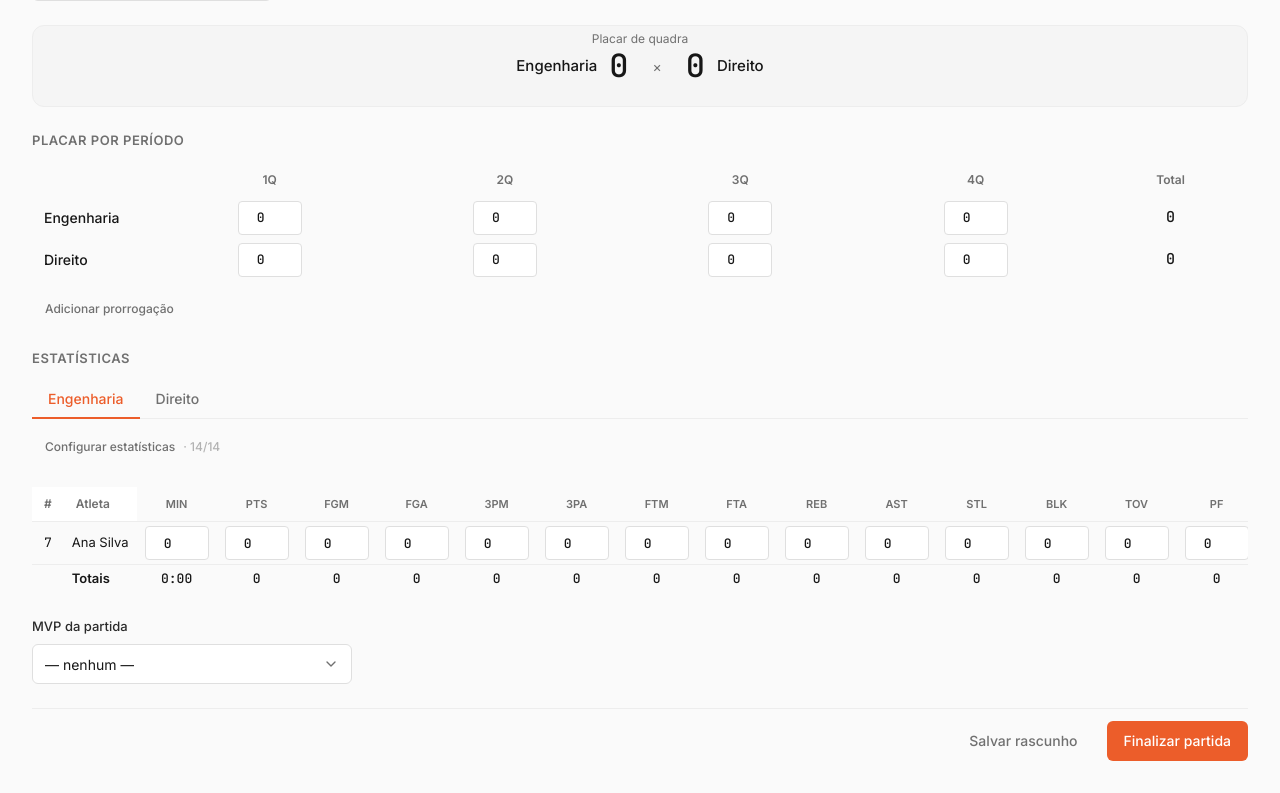
it: MatchSumulaPage — draft › sends the complete zero-default snapshot, stays on the page and shows success
(page scrolled)
Click the button "Salvar rascunho". click: {"x": 1023, "y": 741}
box: [952,721,1095,761]
(page scrolled)
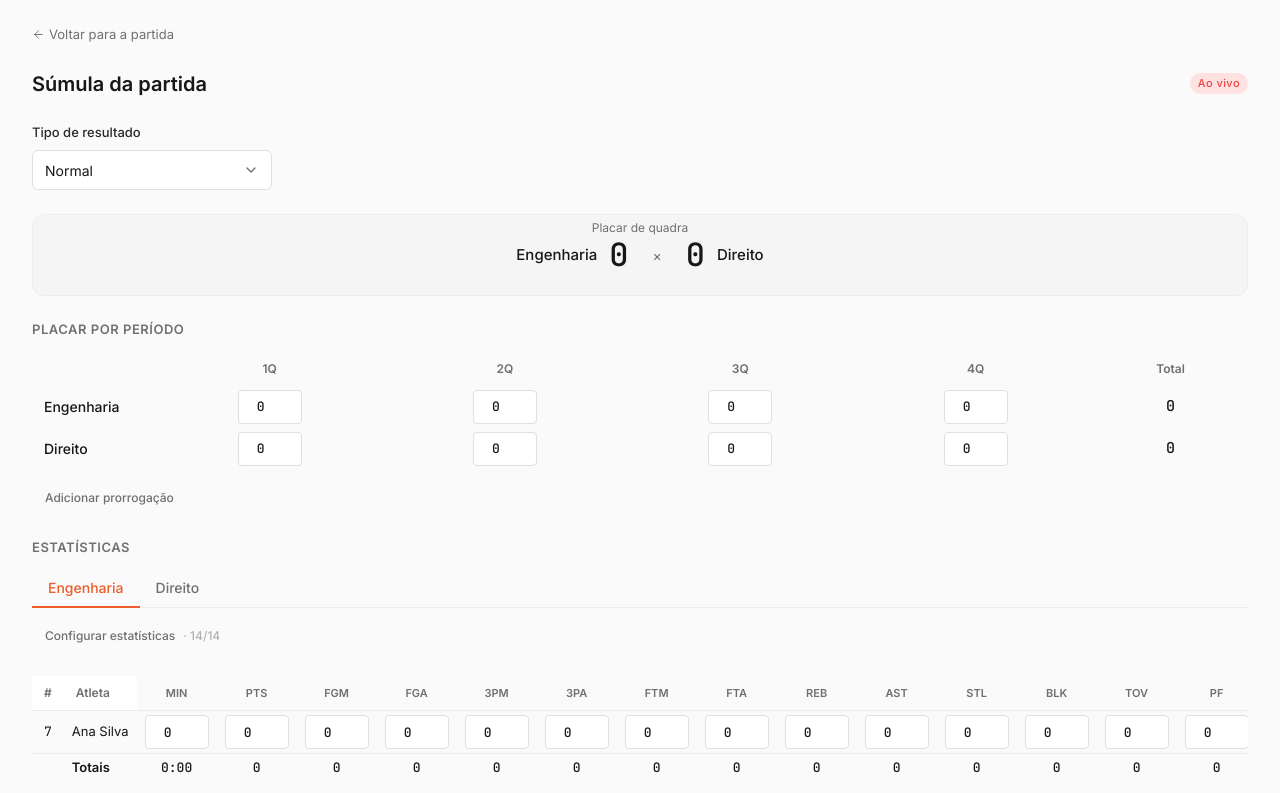
Expected: the heading "Súmula da partida" is shown, [32,68,207,98]
Result: the text "Ao vivo" is shown at [1190,73,1248,94]
